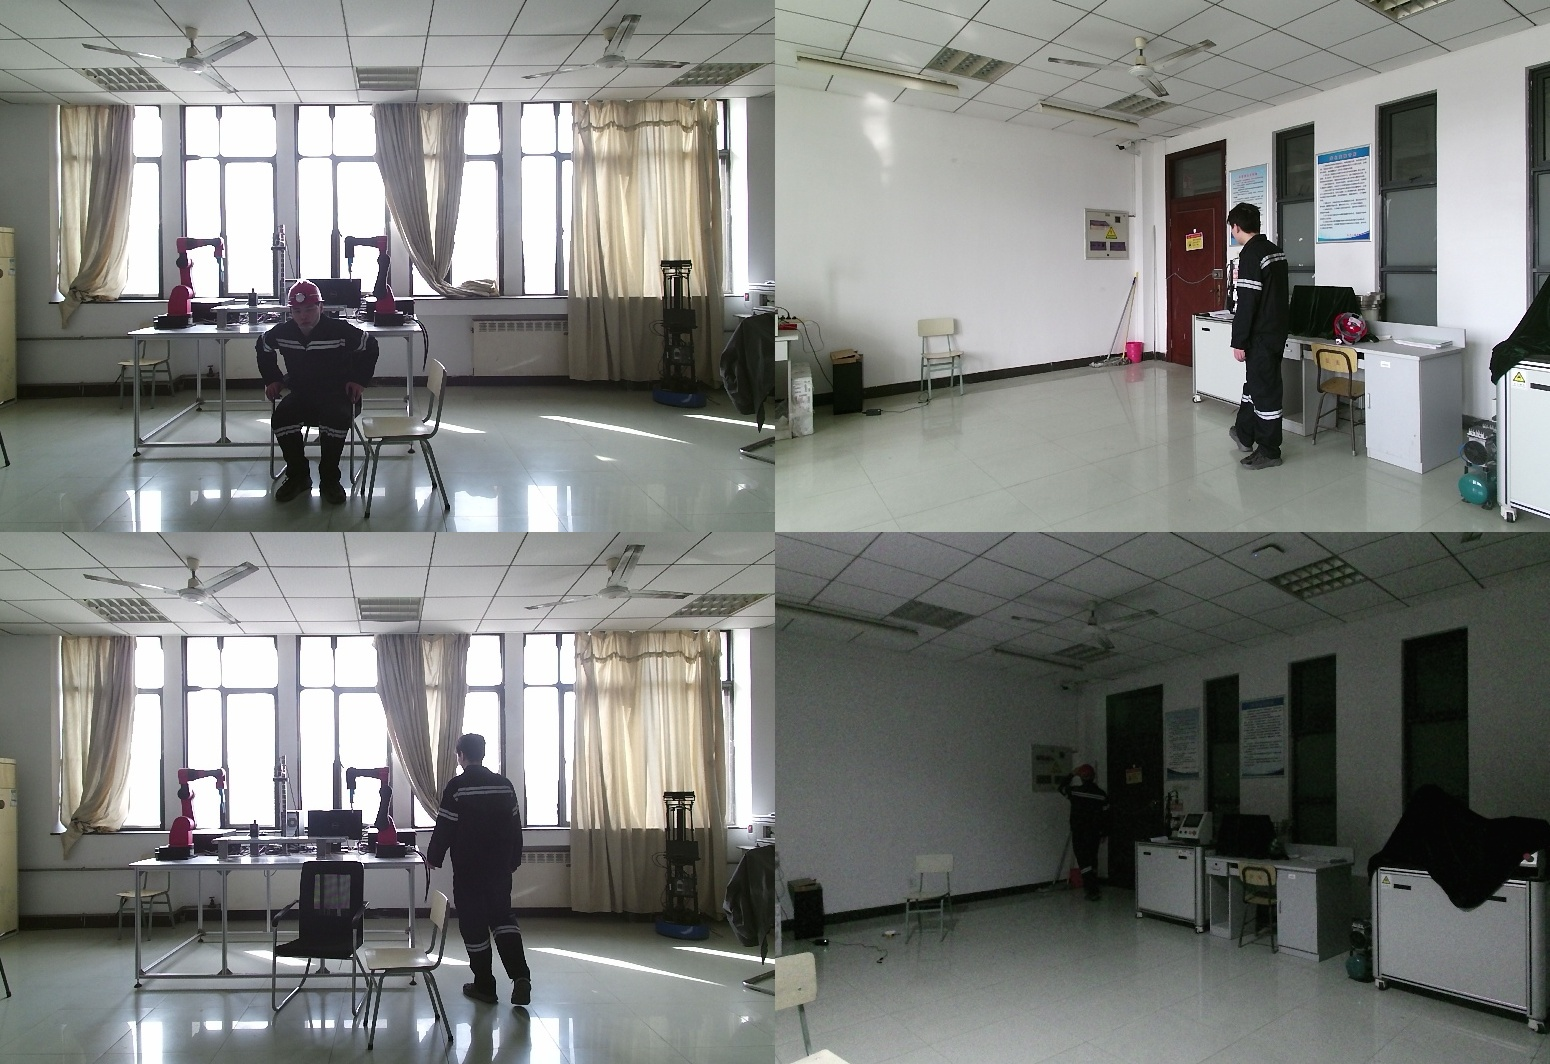person: (256, 281, 386, 503), (432, 736, 538, 1006), (1231, 202, 1308, 470), (1056, 768, 1118, 904)
